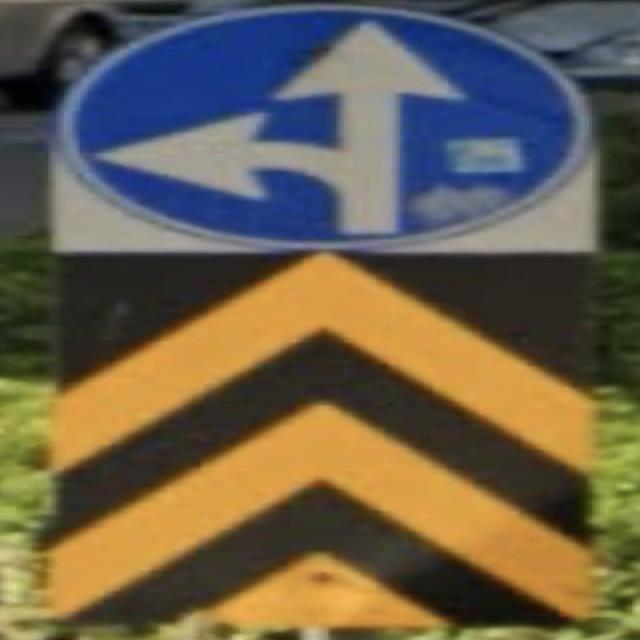Straight or Left: (62, 7, 588, 246)
